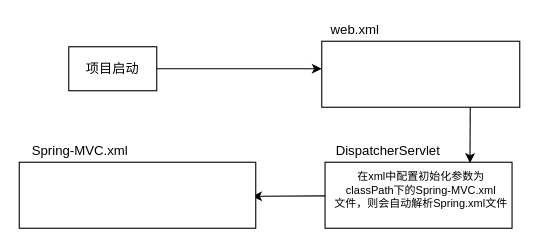
Some shapes in this 539 by 248 pixel diagram are drawn without their labels. The centre of each missing label's shape, as x and y in pixels:
在Spring-MVC.xml文件中配置了如下内容： 1.开启注解扫描 2.配置视图解析器 3.开启MVC注解支持: [137,194]
配置： DispatcherServlet， 设置load-on-standup=1, 随项目启动而启动: [420,73]
